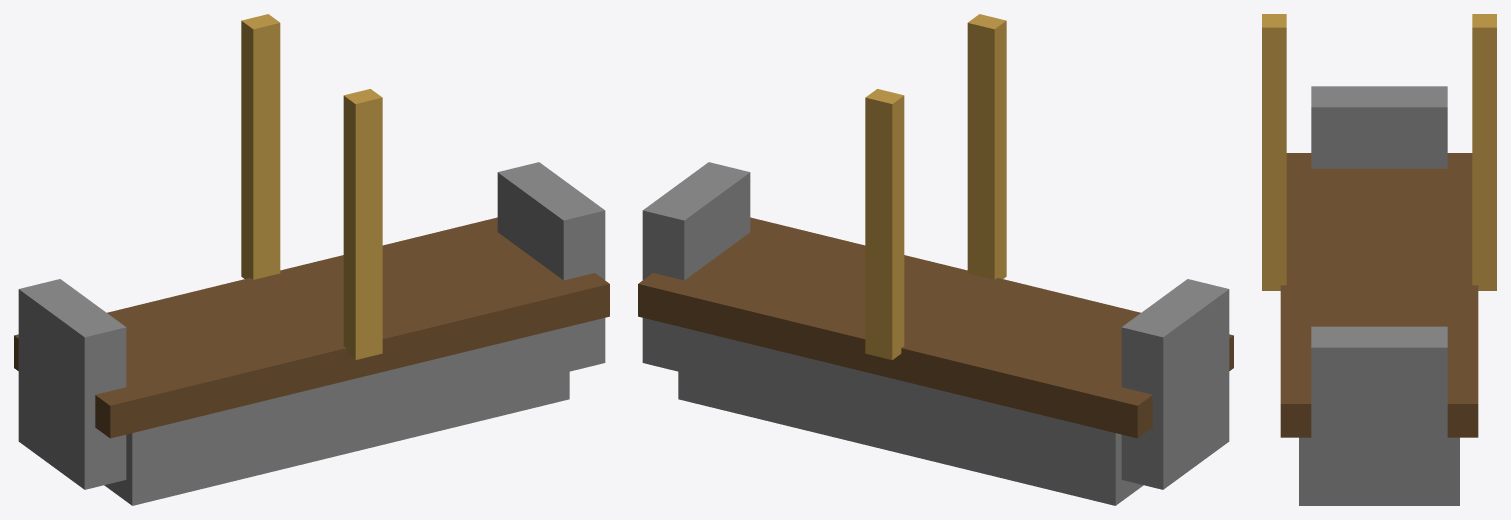
File: swinging_ship.obj
3 renders of one model, left to right at view 1: azimuth 30°, elevation 25°; view 2: azimuth 150°, elevation 25°; view 3: azimuth 270°, elevation 25°, orthographic. The views are drawn at different scales.
Size of the model in its own units: 5 by 3.35 by 1.9.
